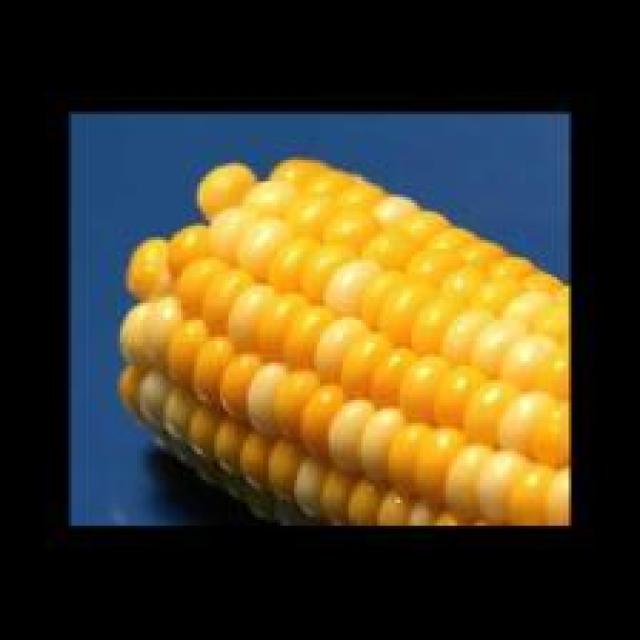corn: (117, 157, 571, 529)
